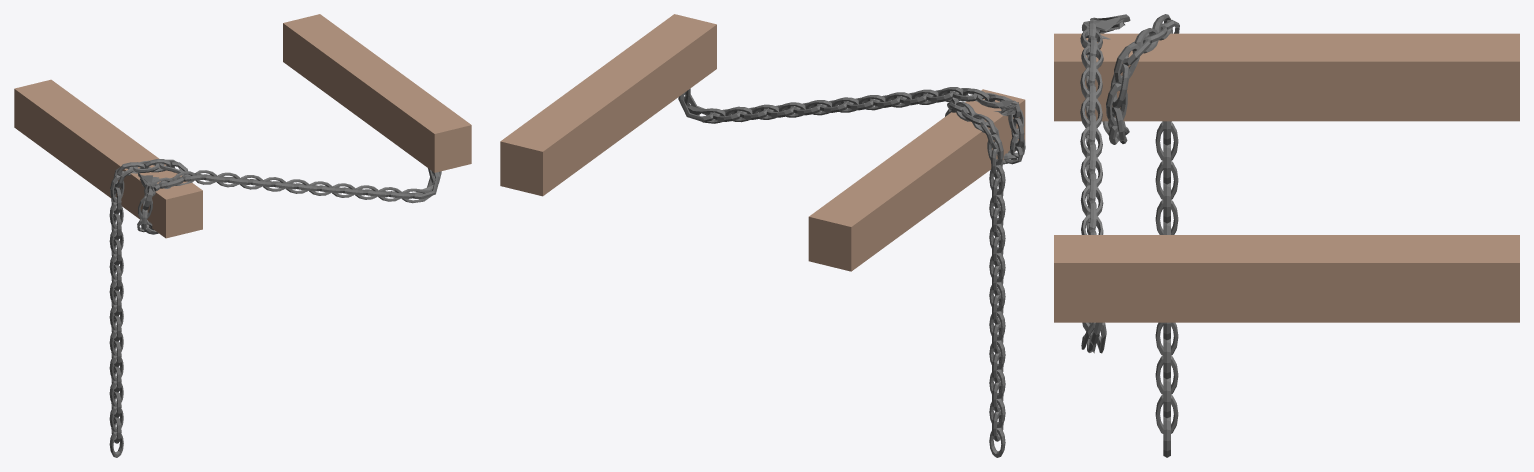
The model's file is chainshanging.fbx.
3 views of the same model, side by side, from view 1: azimuth 30°, elevation 25°; view 2: azimuth 150°, elevation 25°; view 3: azimuth 270°, elevation 25° (orthographic). The views are drawn at different scales.
Visible parts, largest first — view 1: Cube.034, Cube.033, Torus; view 2: Cube.034, Cube.033, Torus; view 3: Cube.034, Cube.033, Torus.
Part boxes in pixels (bbox=[...]): Cube.034: bbox=[283, 14, 471, 172]; Cube.033: bbox=[14, 79, 202, 238]; Torus: bbox=[109, 159, 441, 457]; Cube.034: bbox=[500, 14, 716, 196]; Cube.033: bbox=[808, 89, 1025, 271]; Torus: bbox=[678, 87, 1025, 457]; Cube.034: bbox=[1054, 235, 1519, 322]; Cube.033: bbox=[1054, 33, 1519, 121]; Torus: bbox=[1080, 14, 1179, 457].
Size of the model in its own units: 35.17 by 30.54 by 28.45.
